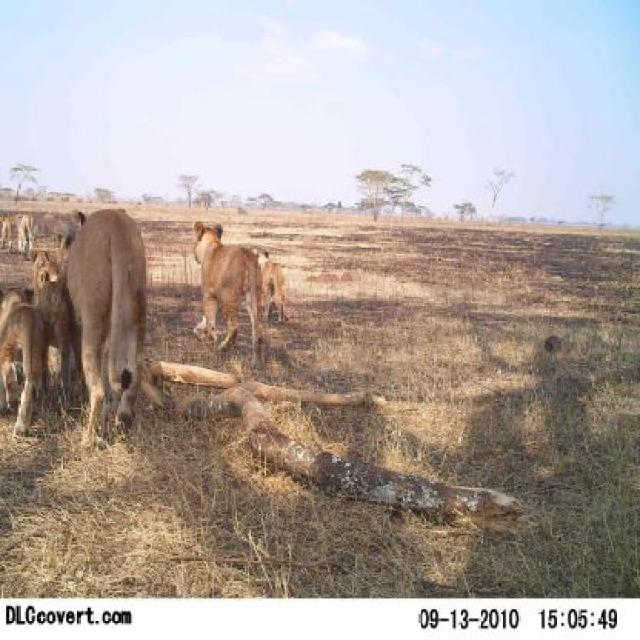Lion: (46, 172, 160, 465), (172, 212, 286, 397), (5, 257, 63, 451)
